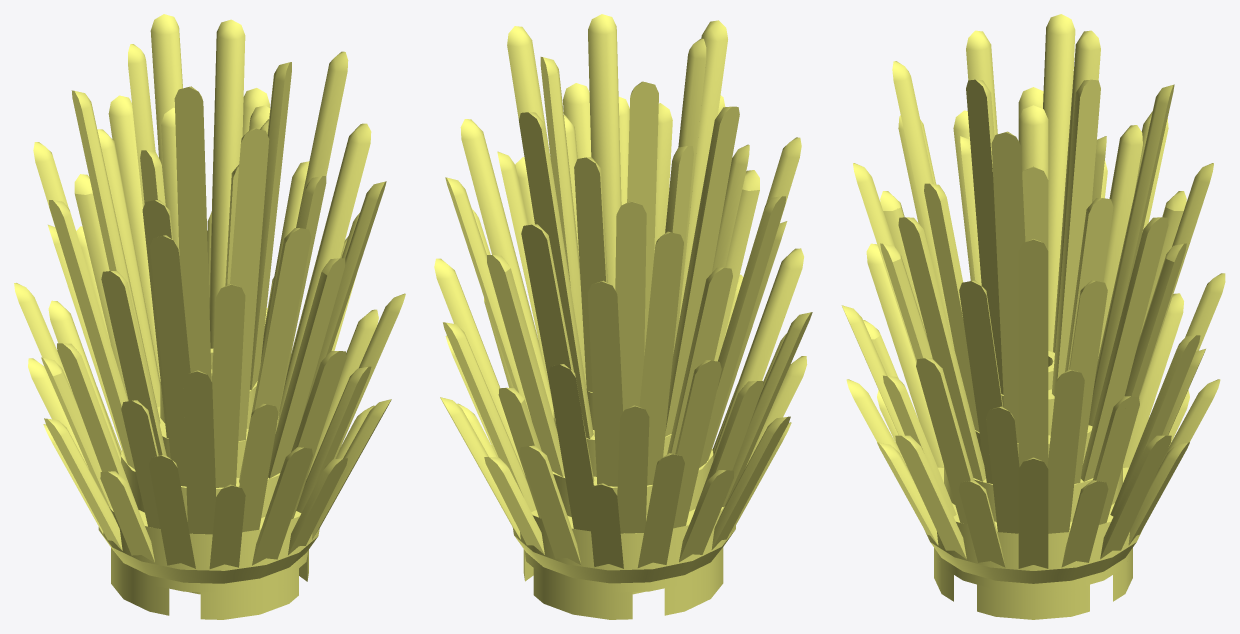
3 views of the same model, side by side, from view 1: azimuth 30°, elevation 25°; view 2: azimuth 150°, elevation 25°; view 3: azimuth 270°, elevation 25° (orthographic).
Visible parts, largest first — view 1: 6064.dat; view 2: 6064.dat; view 3: 6064.dat.
Part boxes in pixels (box(x1,y1,x2,y2)): 6064.dat: box(14, 14, 405, 619); 6064.dat: box(434, 14, 812, 619); 6064.dat: box(841, 14, 1225, 619).
Bounding box in the file's own units: 0.0309 × 0.0464 × 0.0309.
